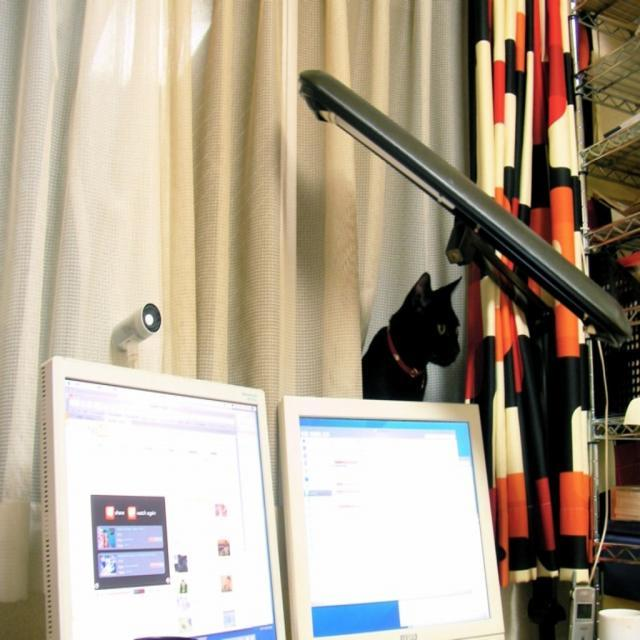others: (3, 288, 535, 639)
